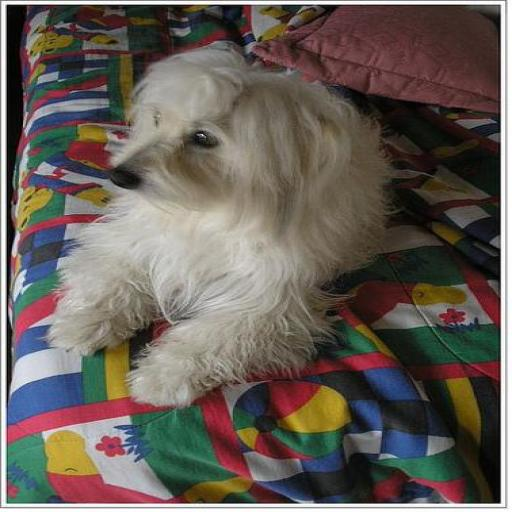dog_face: (122, 60, 378, 242)
